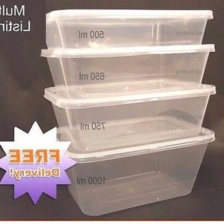plastic_box: (43, 110, 221, 221), (38, 73, 220, 158), (35, 38, 220, 103), (39, 2, 219, 55)
